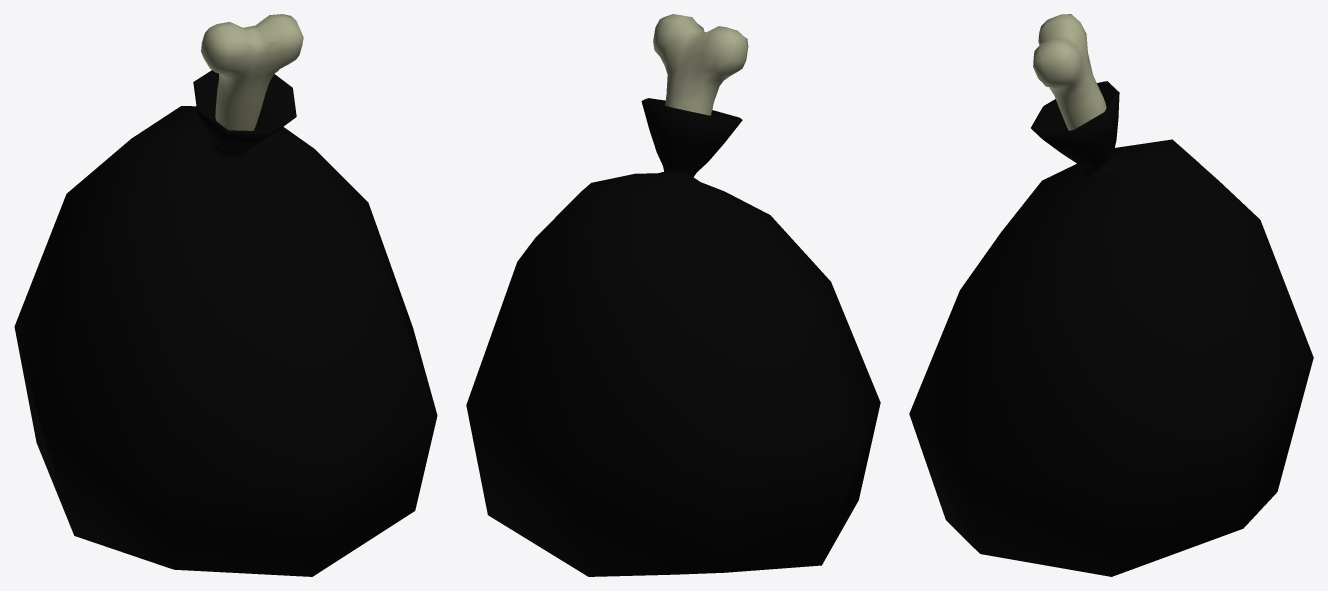
The model's file is Grenade.fbx.
The picture shows the model from 3 angles, left to right: view 1: azimuth 30°, elevation 25°; view 2: azimuth 150°, elevation 25°; view 3: azimuth 270°, elevation 25°; orthographic projection. The views are drawn at different scales.
Parts seen in each view (by area): view 1: Mball.003; view 2: Mball.003; view 3: Mball.003.
Part boxes in pixels (x1,y1,x2,y2): Mball.003: (14,14,437,576); Mball.003: (466,14,880,576); Mball.003: (909,14,1313,576).
Size of the model in its own units: 119 by 165 by 116.
